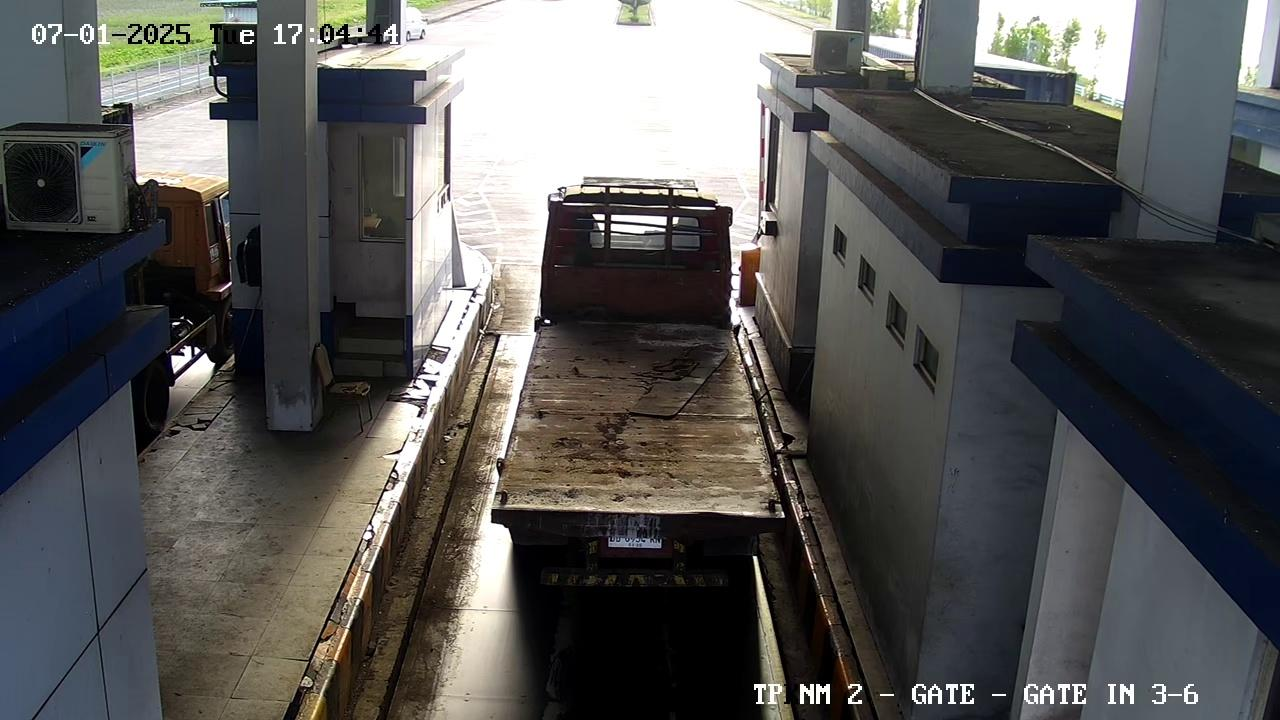plate_number: (596, 534, 675, 561)
